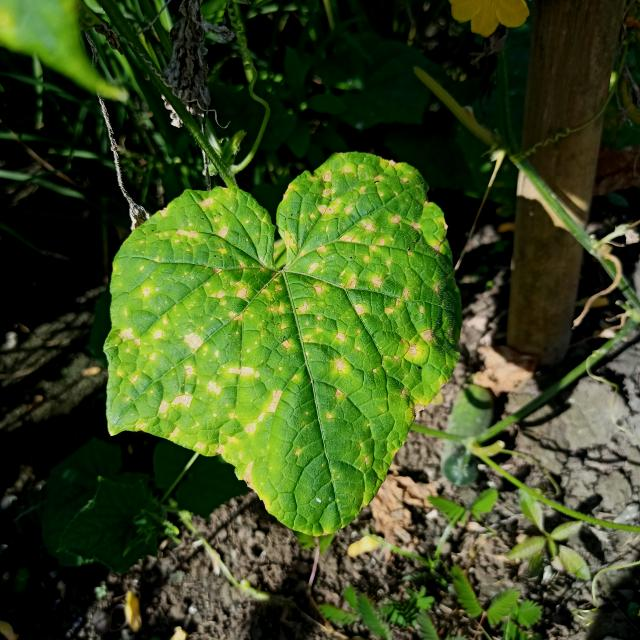disease_cucumber: (116, 167, 450, 507)
